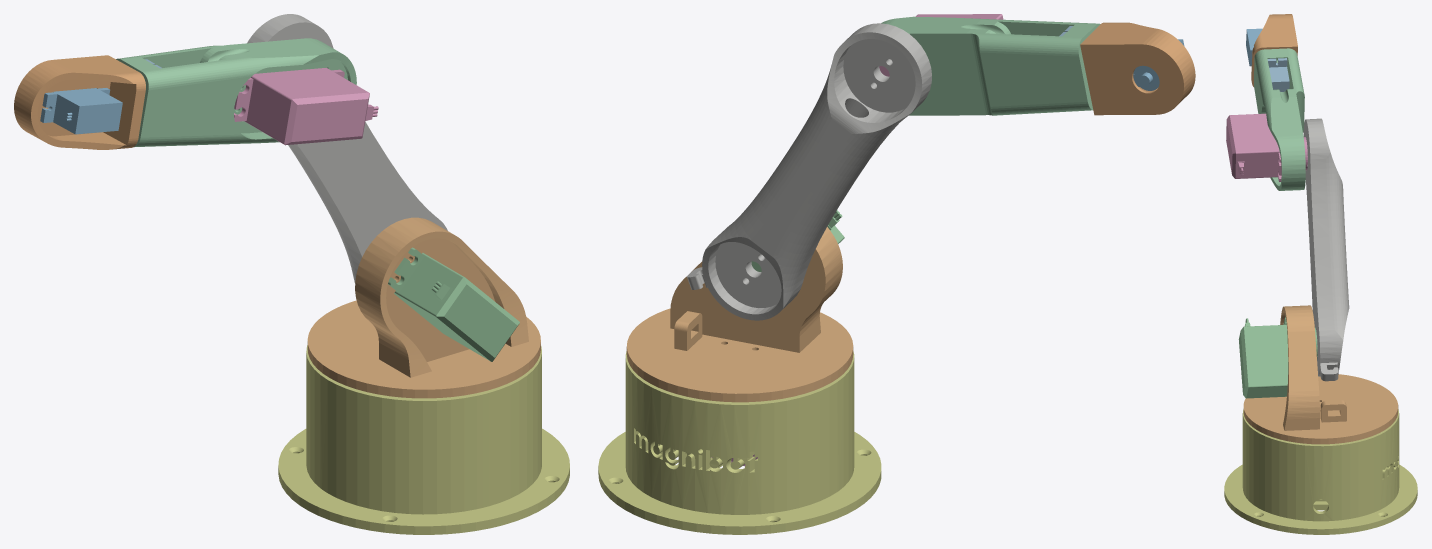
Rendered from case-01_ground_truth.glb.
3 views of the same model, side by side, from view 1: azimuth 30°, elevation 25°; view 2: azimuth 150°, elevation 25°; view 3: azimuth 270°, elevation 25° (orthographic). The views are drawn at different scales.
Parts seen in each view (by area): view 1: c00001, c00003, c00008, c00005, c00007, c00009, c00004, c00010; view 2: c00001, c00005, c00003, c00008, c00009; view 3: c00001, c00003, c00005, c00008, c00004, c00007, c00009, c00006, c00010.
Part boxes in pixels (x1,y1,x2,y2): c00001: (278,345,569,534); c00003: (307,217,540,398); c00008: (116,38,356,147); c00005: (247,14,447,283); c00007: (234,67,378,145); c00009: (14,55,145,149); c00004: (388,247,519,361); c00010: (40,88,122,134); c00001: (598,351,881,534); c00005: (687,23,931,320); c00003: (626,227,853,402); c00008: (881,16,1100,115); c00009: (1080,22,1195,115); c00001: (1224,409,1417,534); c00003: (1243,305,1398,444); c00005: (1303,118,1349,381); c00008: (1254,48,1305,190); c00004: (1238,316,1317,398); c00007: (1226,113,1307,181); c00009: (1251,14,1297,86); c00006: (1267,58,1289,91); c00010: (1246,28,1262,66).
Size of the model in its own units: 269 by 241 by 121.
